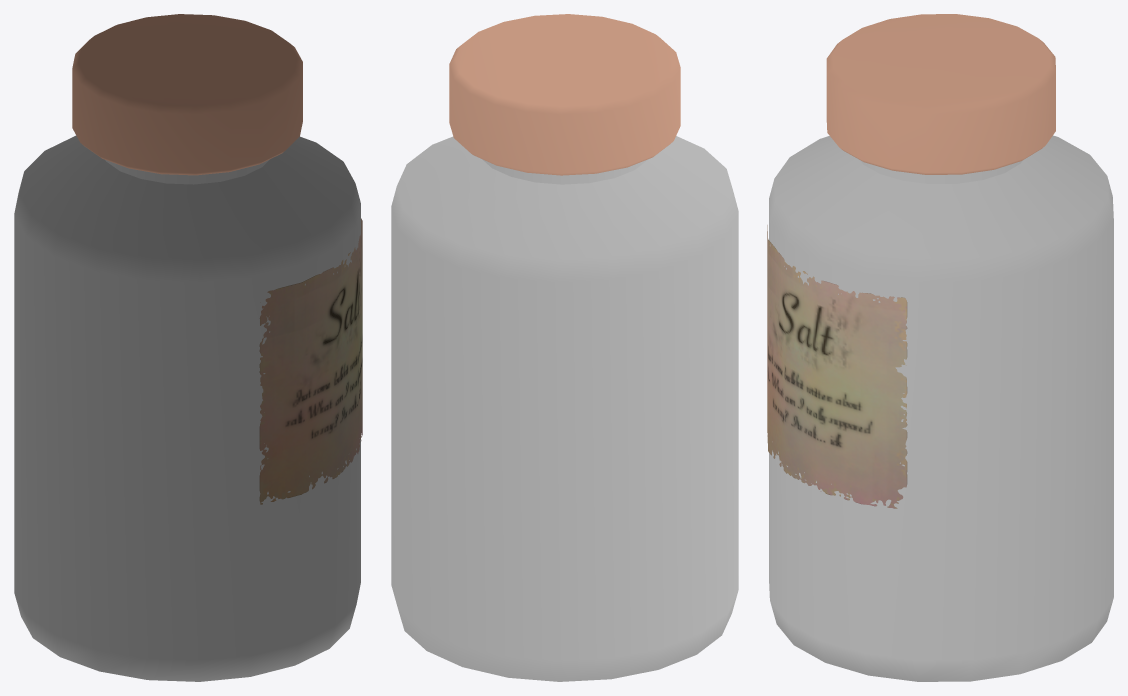
Rendered from SugarJar_cbb5922c.obj.
3 renders of one model, left to right at view 1: azimuth 30°, elevation 25°; view 2: azimuth 150°, elevation 25°; view 3: azimuth 270°, elevation 25°, orthographic.
Parts seen in each view (by area): view 1: SugarJar_cbb5922c; view 2: SugarJar_cbb5922c; view 3: SugarJar_cbb5922c.
Boxes of the visible parts, x1,y1,x2,y2 form: SugarJar_cbb5922c: (14,14,362,681); SugarJar_cbb5922c: (391,14,738,681); SugarJar_cbb5922c: (767,14,1113,681).
Bounding box in the file's own units: 0.1143 × 0.2011 × 0.1145.
